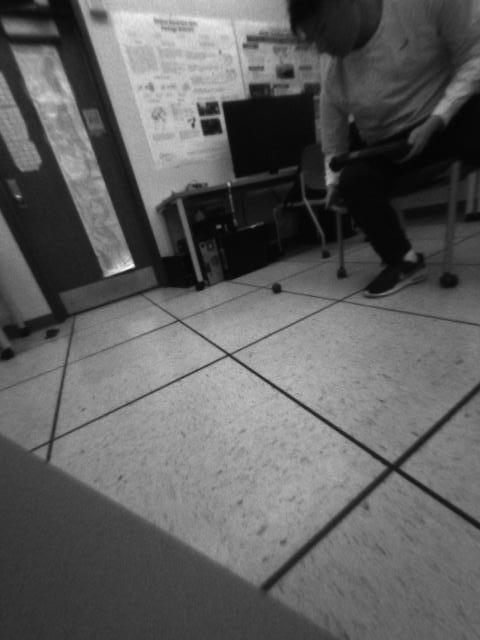dogtoy: (263, 272, 292, 297)
